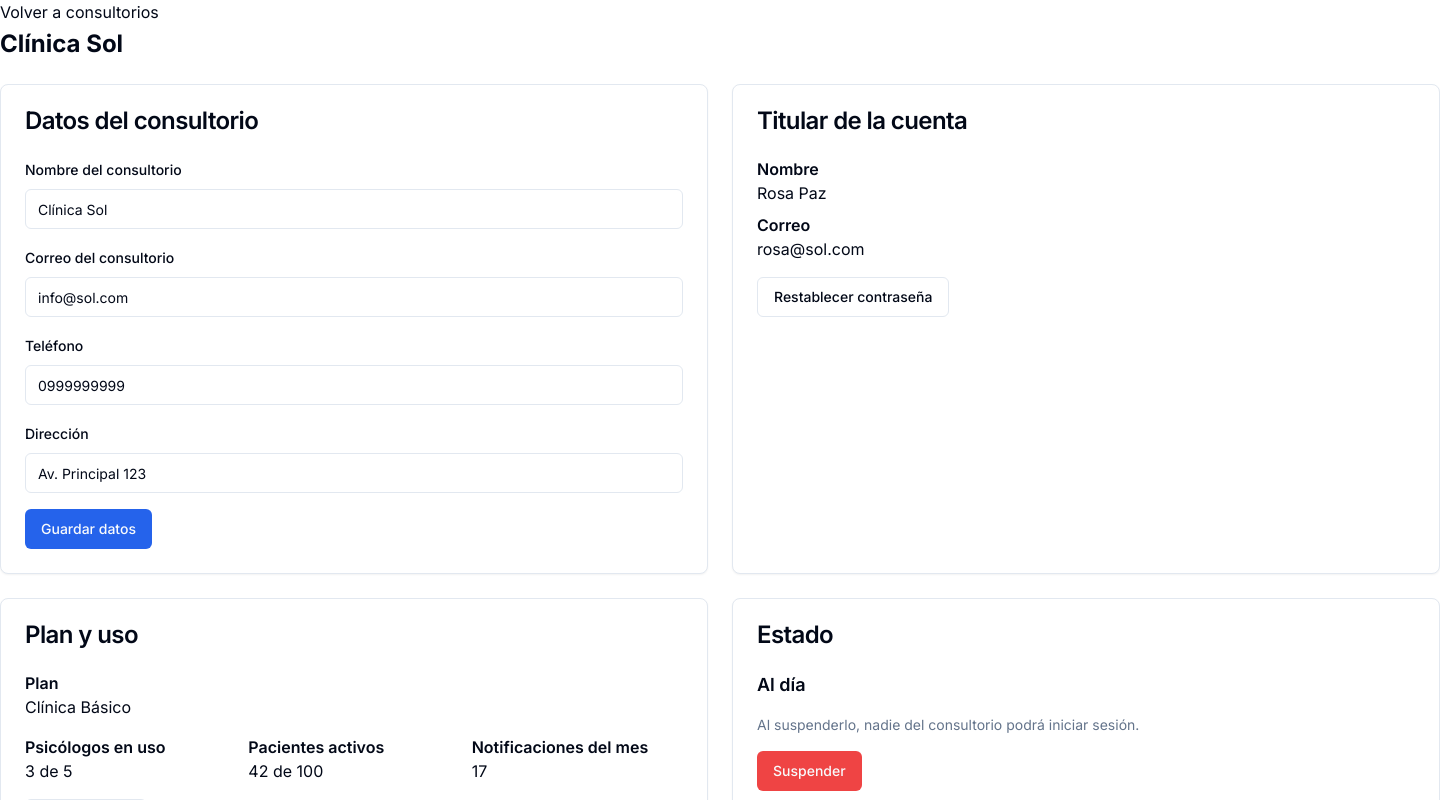
it: TenantDetail › resets the master password and shows it once
The image size is (1440, 800).
Expected: the heading "Clínica Sol" is shown, [0,29,123,58]
Click the button "Restablecer contraseña" at (853, 297), box [757,277,950,317]
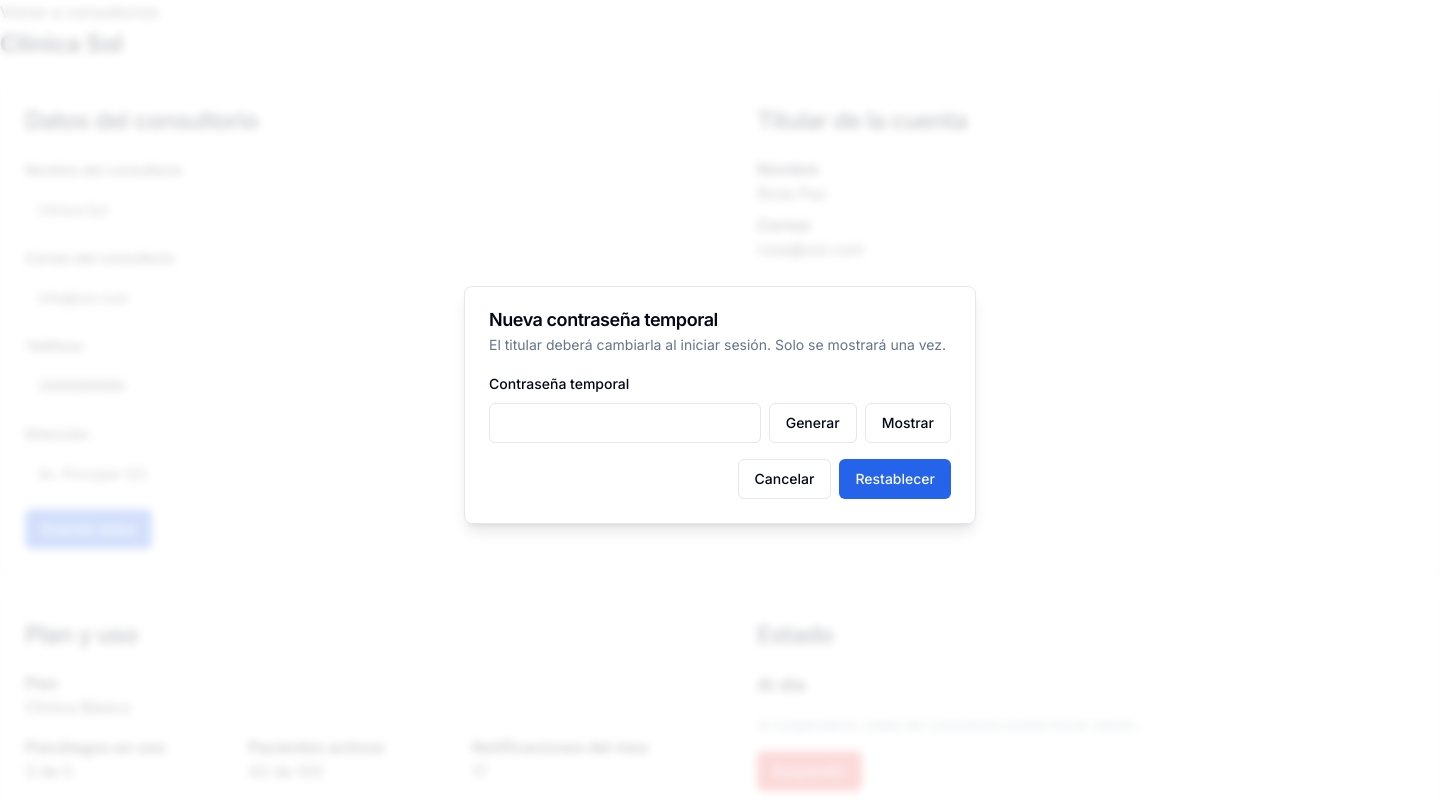
Type "corta" into the password field labelled "Contraseña temporal" at (625, 423), box [489,403,761,443]
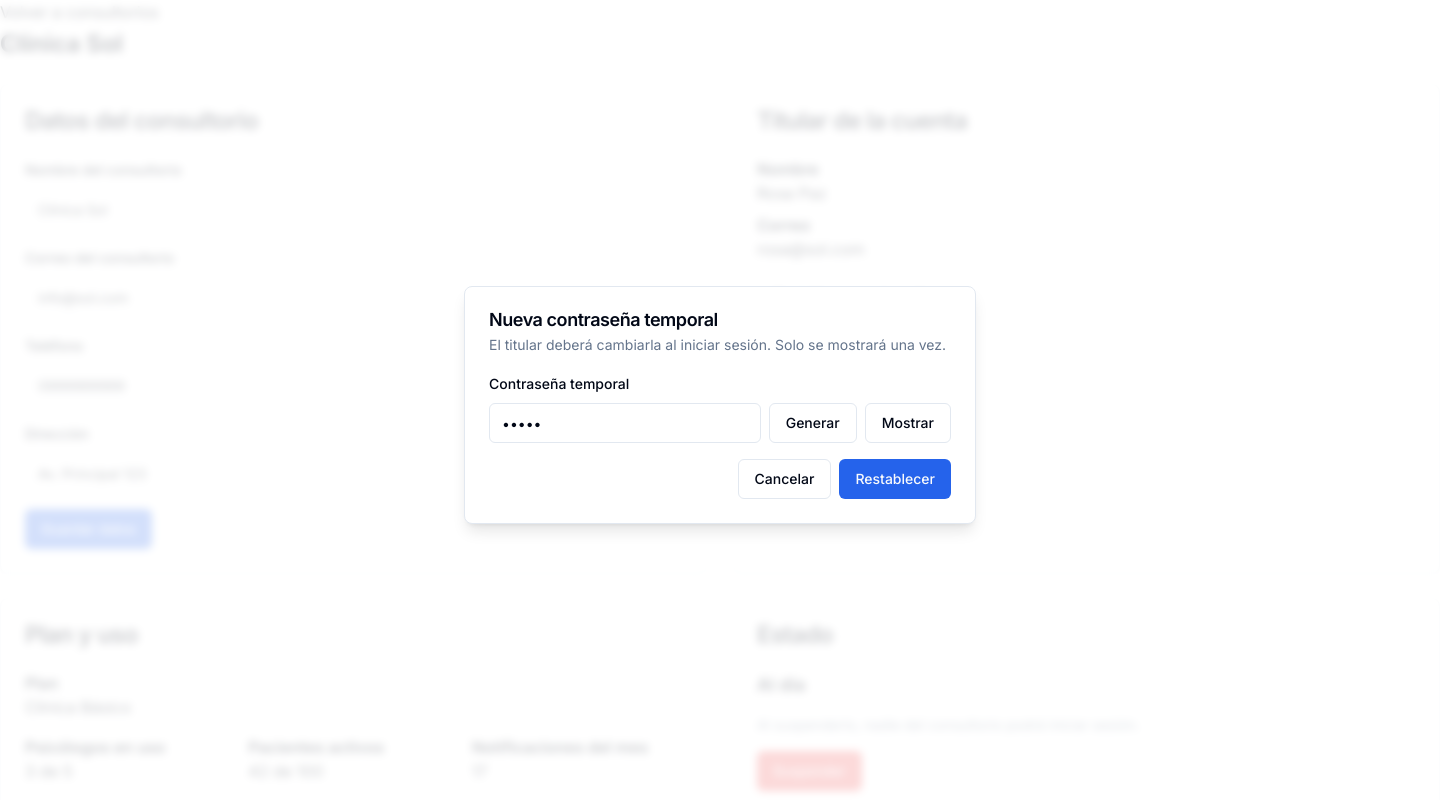
Click the button "Restablecer" at (895, 479), box [839,459,951,499]
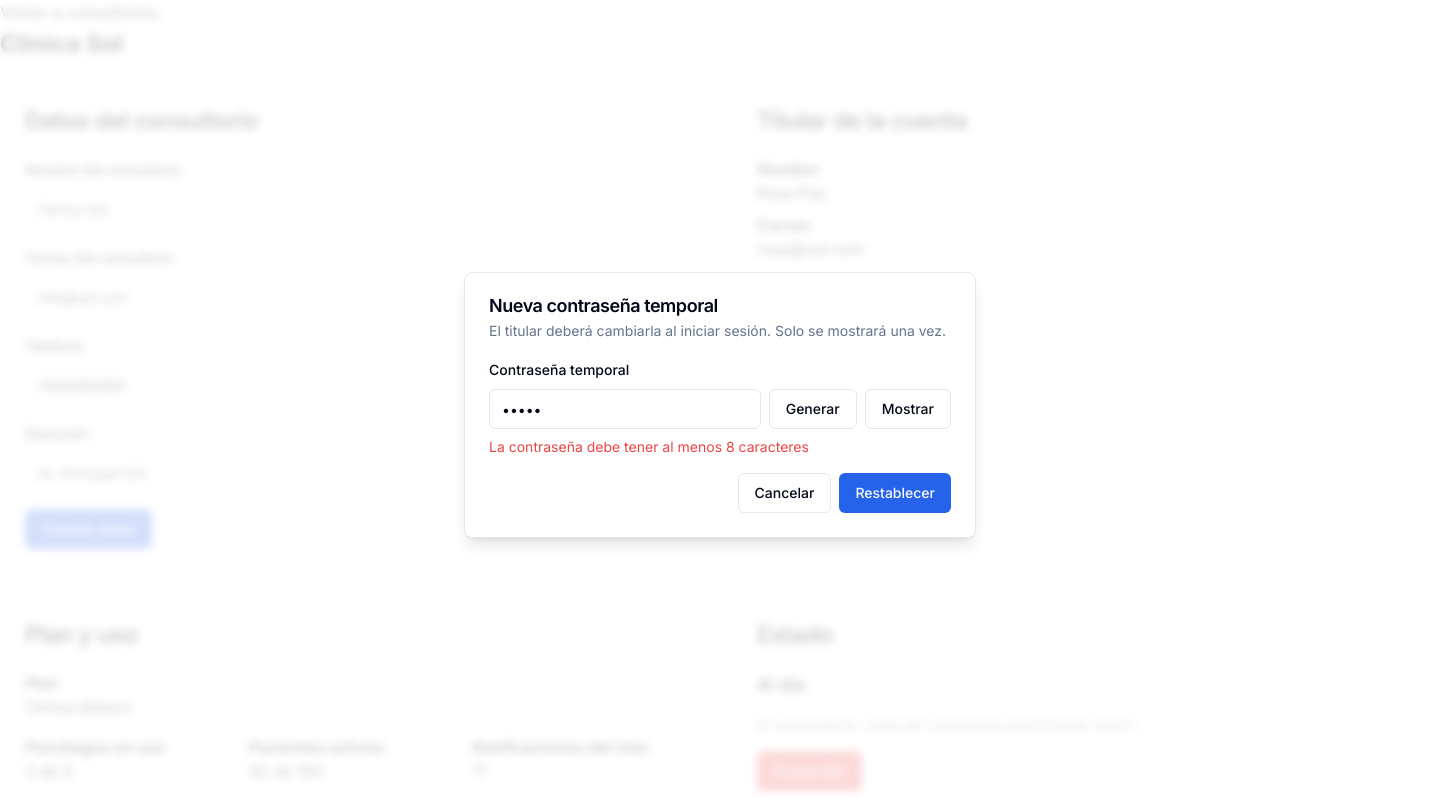
Result: the text "La contraseña debe tener al menos 8 caracteres" is shown at [489,438,809,455]
Type " Temporal-123 " into the password field labelled "Contraseña temporal" at (625, 409), box [489,389,761,429]
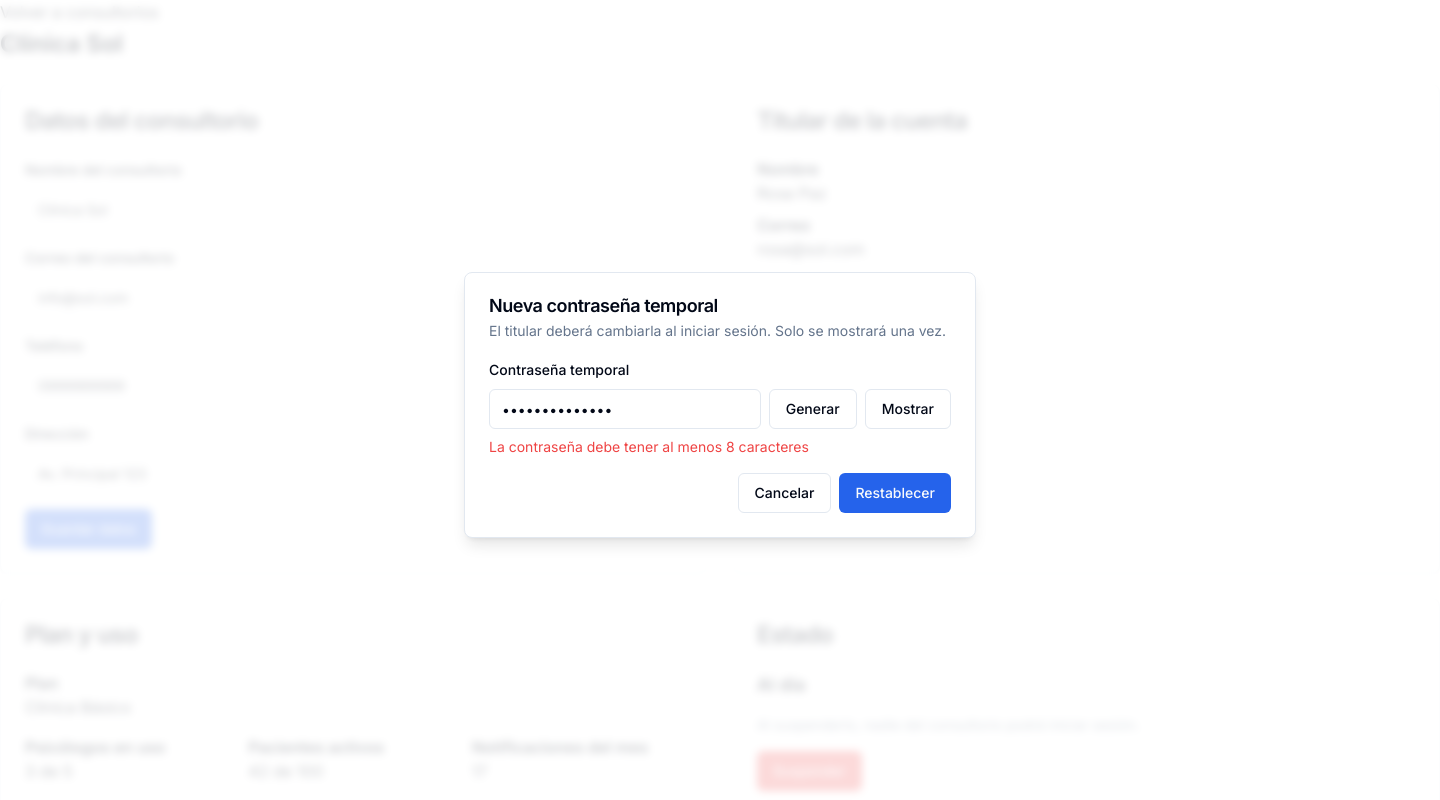
Click the button "Restablecer" at (895, 493), box [839,473,951,513]
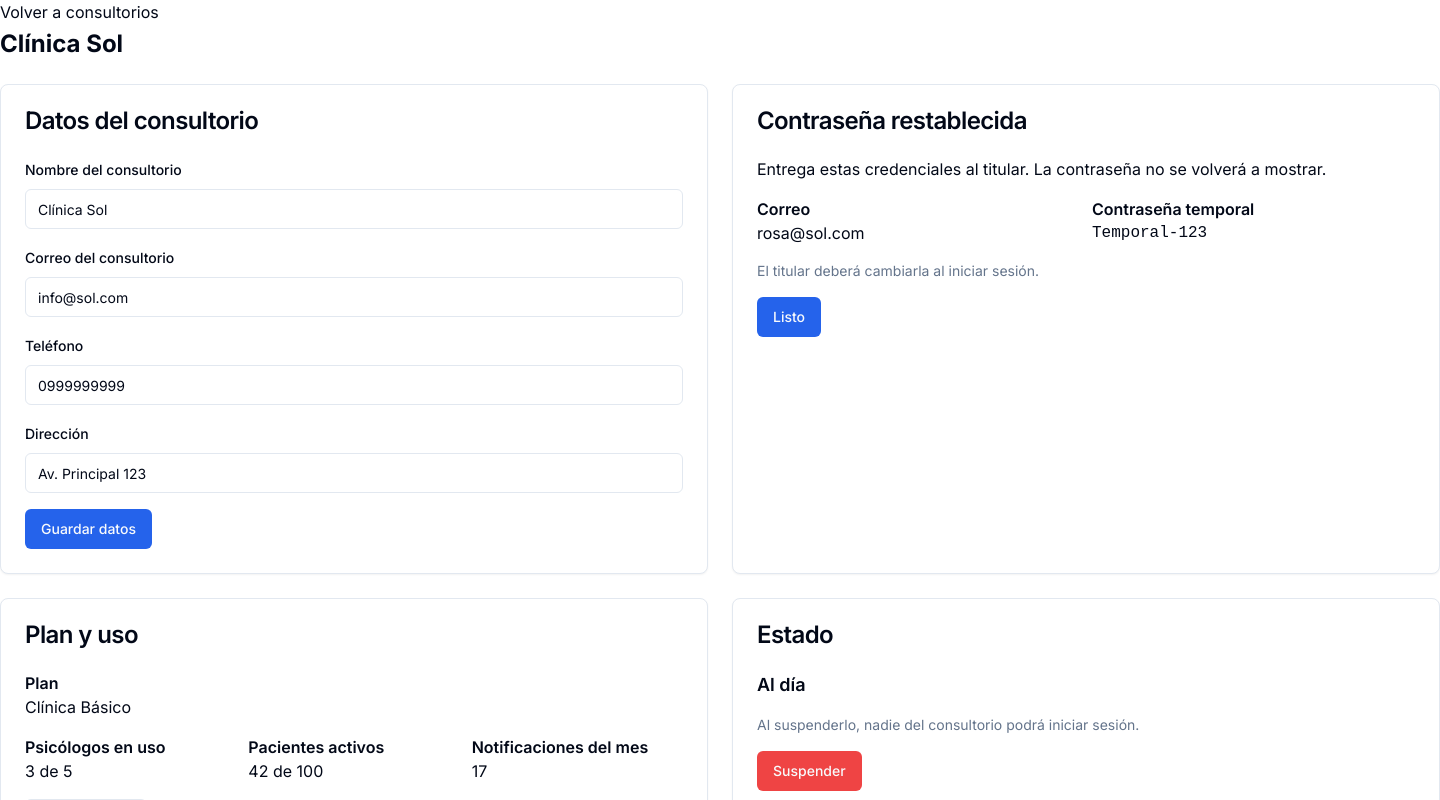
Result: the text " Temporal-123 " is shown at [1092,224,1207,242]
Click the button "Listo" at (789, 317), box [757,297,821,337]
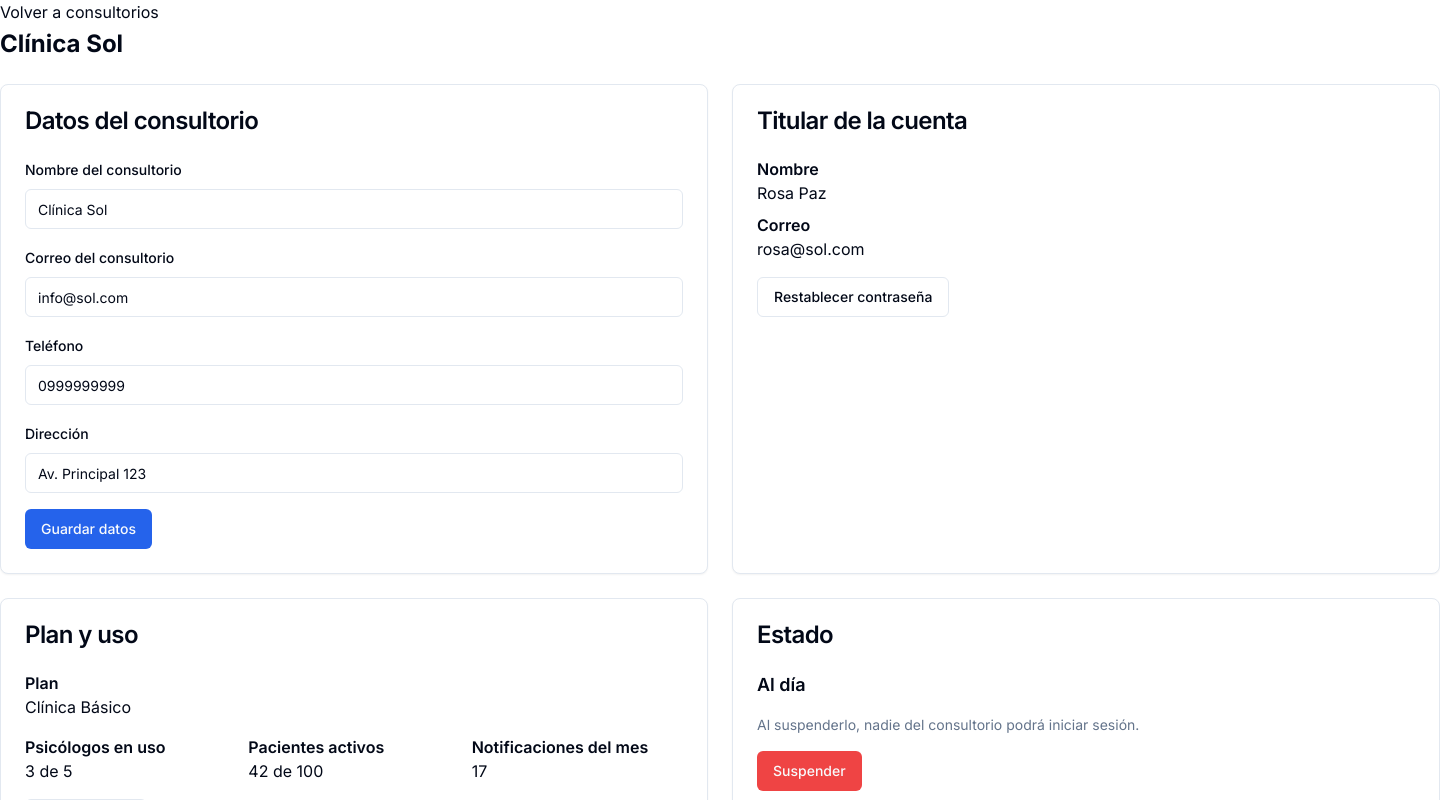
Result: the text " Temporal-123 " is gone
